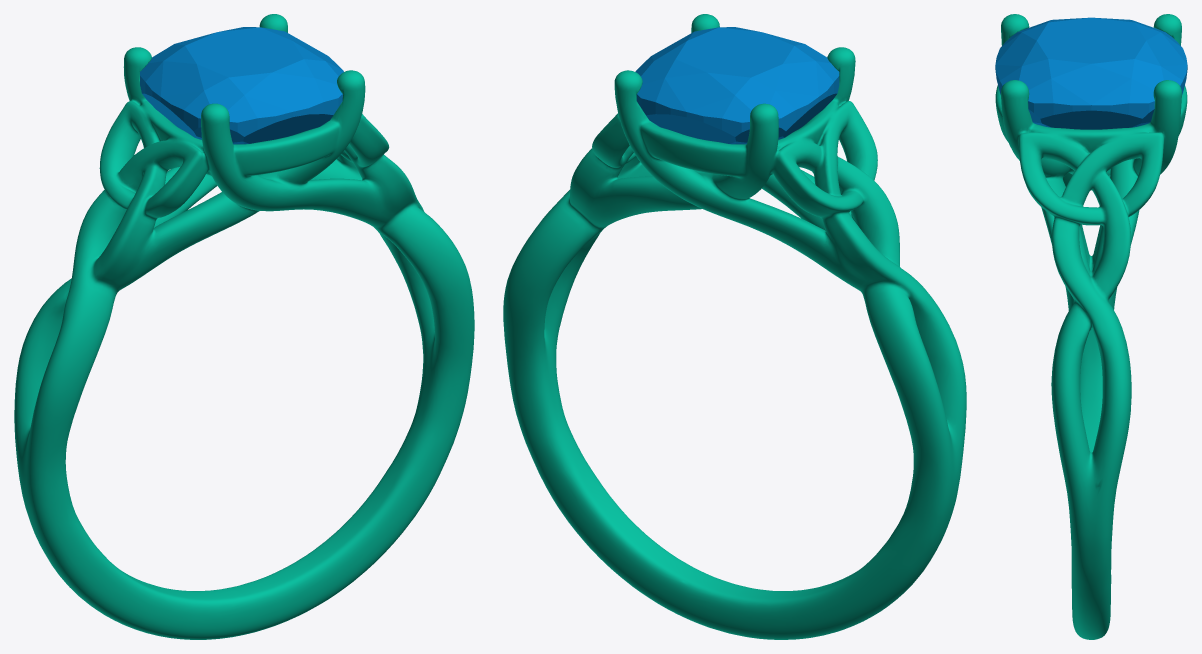
File: BE1131_CU_200ct_RENDER.glb
The picture shows the model from 3 angles, left to right: view 1: azimuth 30°, elevation 25°; view 2: azimuth 150°, elevation 25°; view 3: azimuth 270°, elevation 25°; orthographic projection.
Visible parts, largest first — view 1: Metal 01, CS_Diamond_Cushion Square; view 2: Metal 01, CS_Diamond_Cushion Square; view 3: Metal 01, CS_Diamond_Cushion Square.
Boxes of the visible parts, left/top/right/bottom form: Metal 01: left=14, top=14, right=474, bottom=639; CS_Diamond_Cushion Square: left=140, top=27, right=343, bottom=144; Metal 01: left=503, top=14, right=966, bottom=639; CS_Diamond_Cushion Square: left=635, top=27, right=839, bottom=144; Metal 01: left=995, top=14, right=1187, bottom=639; CS_Diamond_Cushion Square: left=995, top=17, right=1187, bottom=129.
Size of the model in its own units: 19.83 by 24.79 by 7.5.
